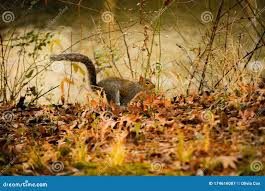squirrel: (50, 52, 156, 110)
